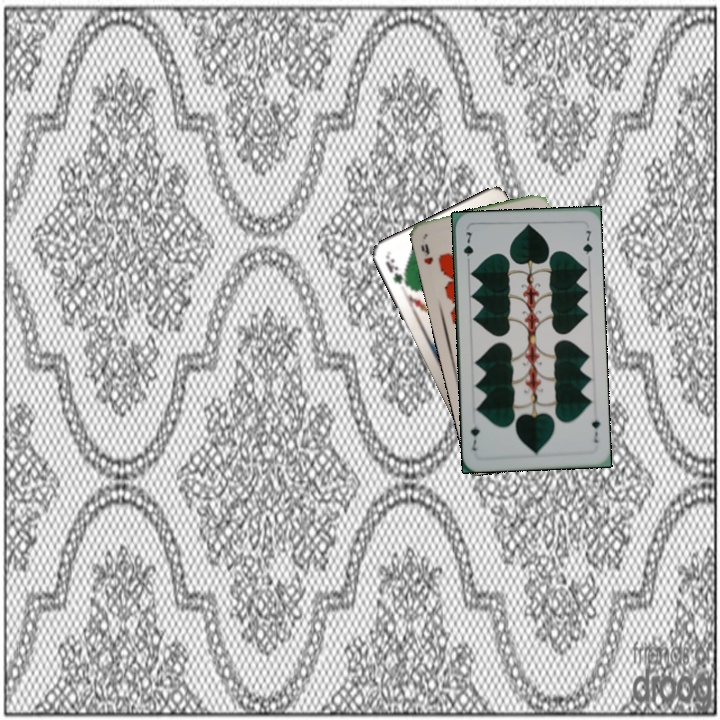G7: (459, 228, 476, 267), (587, 415, 603, 445)
GK: (381, 253, 411, 289)
H9: (417, 239, 436, 267)
